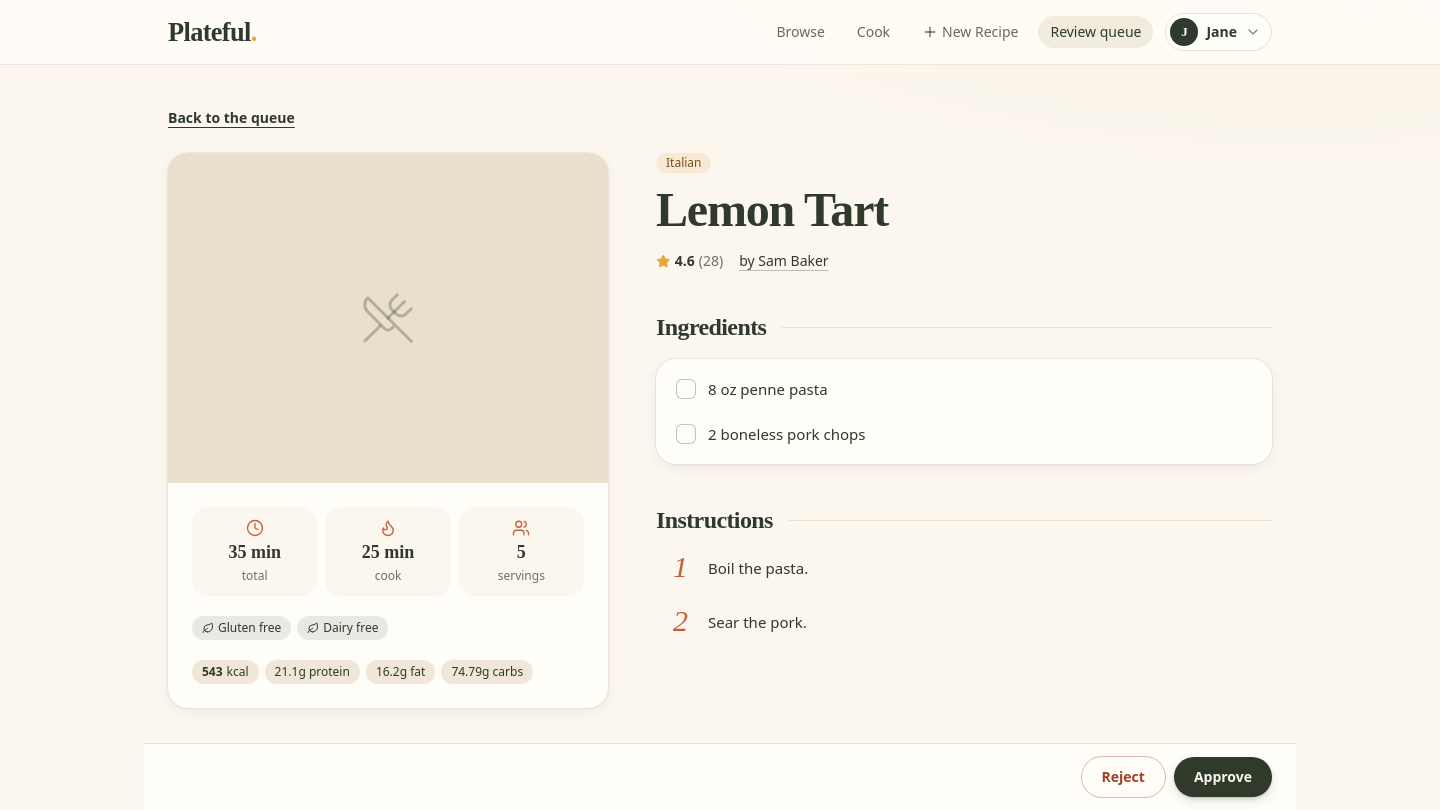
approve404Message
Expected: the heading "Lemon Tart" is shown, [656, 183, 888, 236]
Click the button "Approve". click: [1223, 777]
box: [1174, 757, 1272, 797]
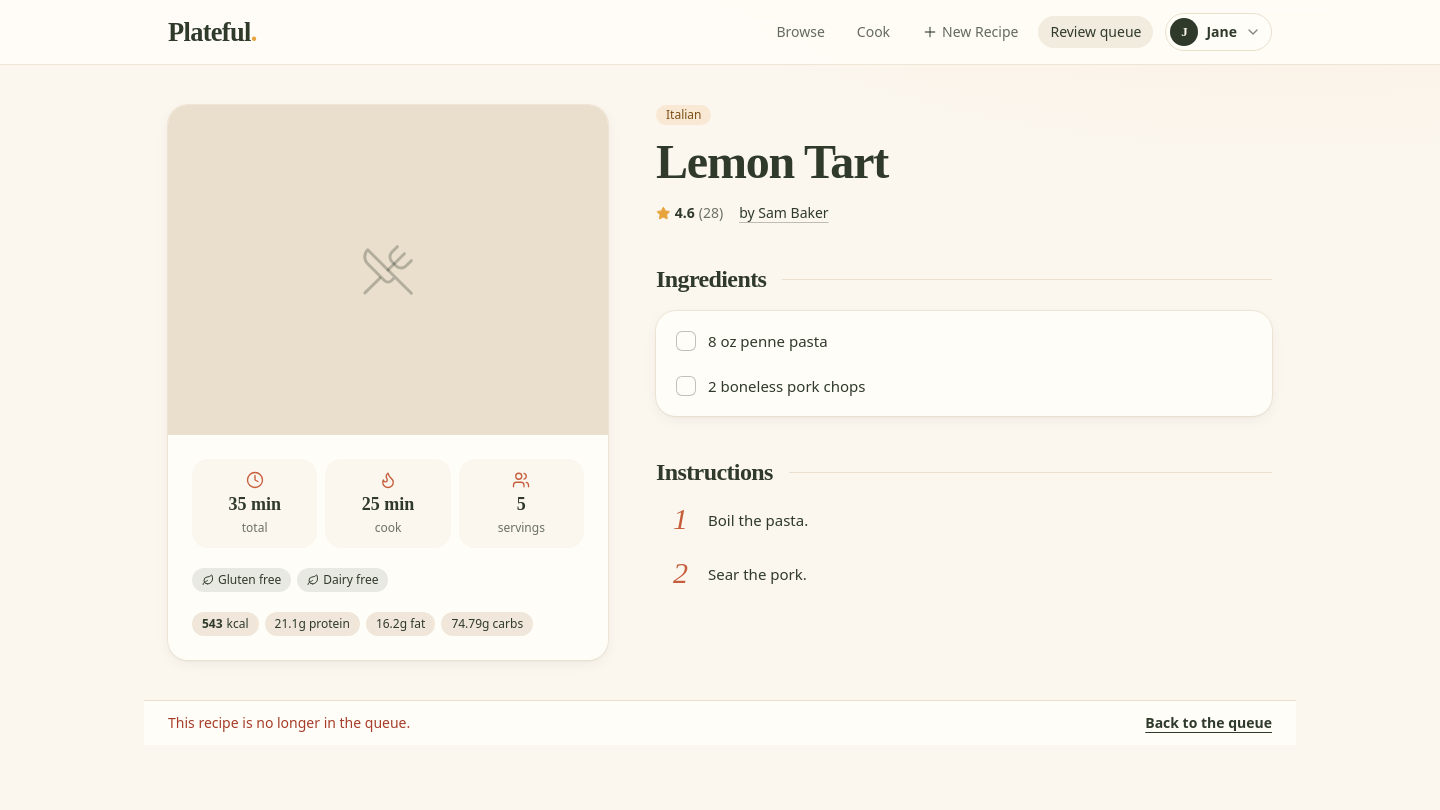
Now the text "This recipe is no longer in the queue." is shown, box [168, 712, 410, 732]
